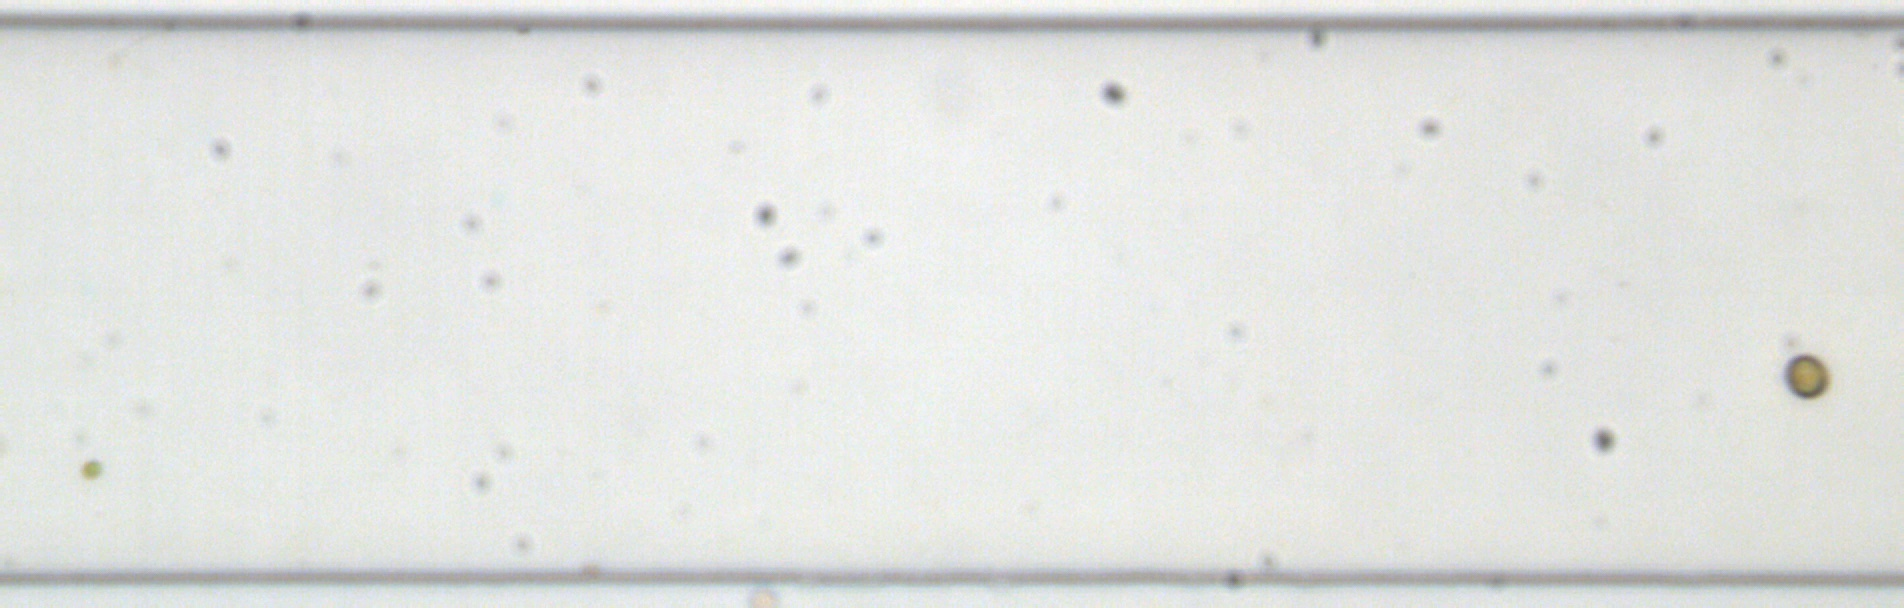Chlorella: (79, 456, 106, 482)
Effrenium: (1781, 351, 1832, 404)
